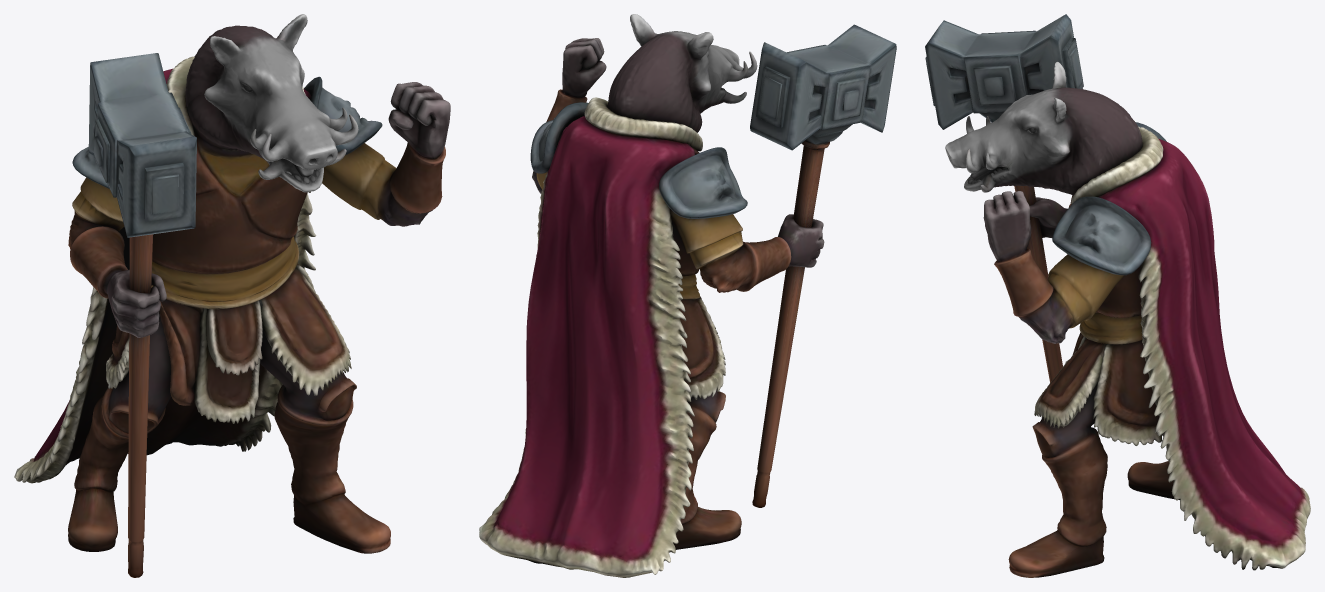
The model's file is MZ4250 - Wereboar.glb.
The picture shows the model from 3 angles, left to right: view 1: azimuth 30°, elevation 25°; view 2: azimuth 150°, elevation 25°; view 3: azimuth 270°, elevation 25°; orthographic projection. The views are drawn at different scales.
Visible parts, largest first — view 1: Wearboar_Updated.001; view 2: Wearboar_Updated.001; view 3: Wearboar_Updated.001.
Part boxes in pixels (left/top/right/bottom): Wearboar_Updated.001: left=14, top=14, right=450, bottom=577; Wearboar_Updated.001: left=479, top=14, right=896, bottom=577; Wearboar_Updated.001: left=925, top=14, right=1310, bottom=577.
Size of the model in its own units: 4.57 by 6.45 by 4.95.
Materials: 1 (1 with a texture image).
